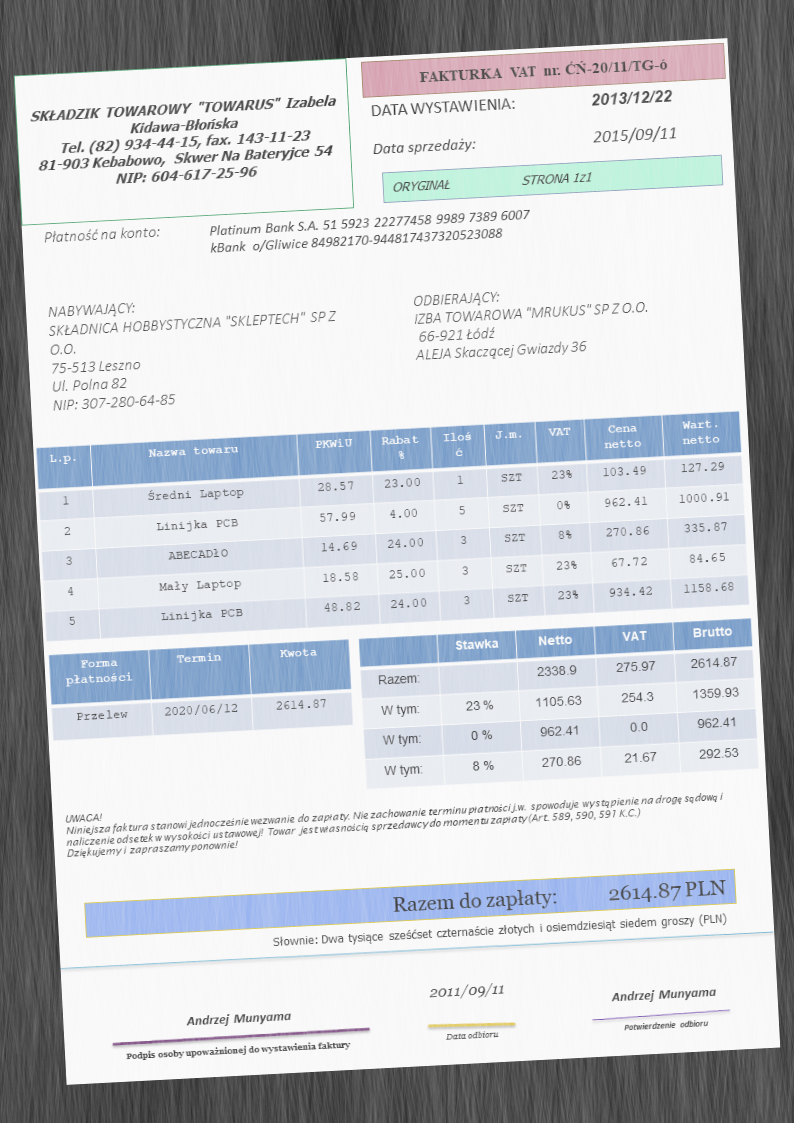Table: (34, 410, 751, 644), (356, 614, 761, 793), (47, 637, 355, 742)
TextBox: (62, 776, 730, 861), (44, 286, 344, 415), (27, 89, 345, 194), (410, 278, 652, 366), (270, 908, 729, 954), (205, 205, 533, 258), (390, 873, 728, 919), (414, 53, 669, 87), (389, 165, 595, 196), (122, 1037, 352, 1063), (366, 91, 515, 122), (369, 132, 478, 160), (41, 221, 161, 246), (181, 1007, 297, 1030), (609, 984, 718, 1007), (590, 121, 679, 148), (588, 85, 675, 110), (425, 979, 506, 1002), (620, 1016, 709, 1034), (442, 1026, 502, 1045)
